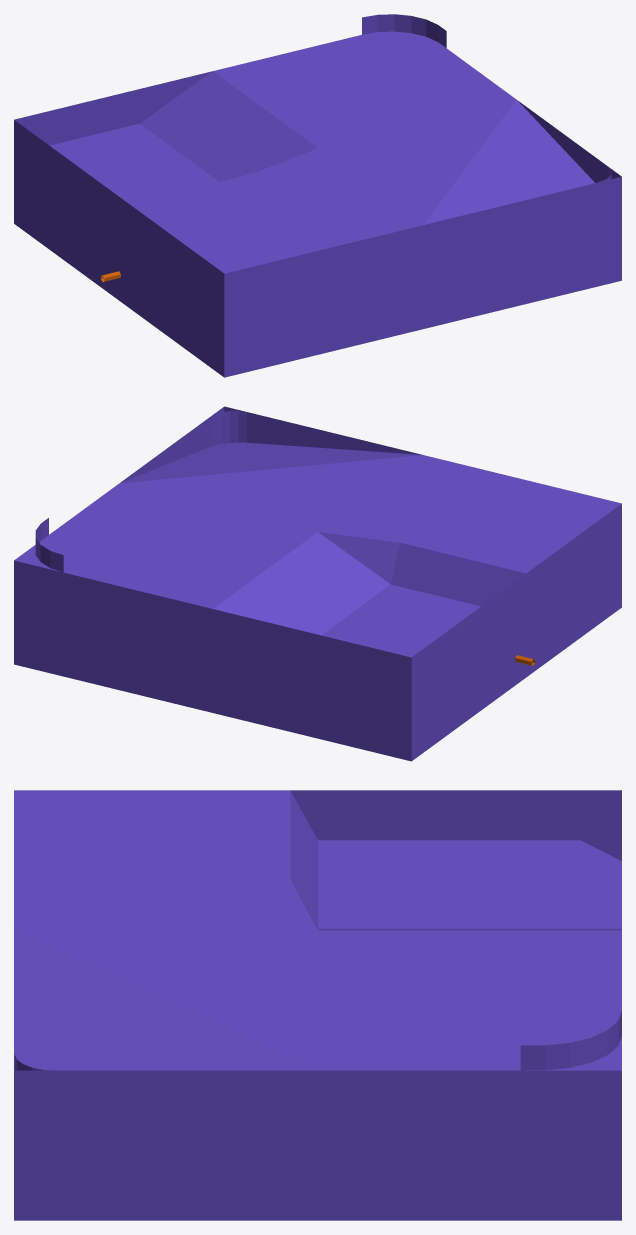
The model's file is room.obj.
The picture shows the model from 3 angles, top to bottom: view 1: azimuth 30°, elevation 25°; view 2: azimuth 150°, elevation 25°; view 3: azimuth 270°, elevation 25°; orthographic projection. The views are drawn at different scales.
Parts seen in each view (by area): view 1: Cube, Cylinder.004_Cylinder.002; view 2: Cube, Cylinder.005_Cylinder.003, Cylinder.004_Cylinder.002; view 3: Cube, Cylinder.004_Cylinder.002.
Part boxes in pixels (<box>): Cube: <box>14,31,621,377</box>; Cylinder.004_Cylinder.002: <box>362,14,446,47</box>; Cube: <box>14,406,621,761</box>; Cylinder.005_Cylinder.003: <box>210,411,254,446</box>; Cylinder.004_Cylinder.002: <box>35,518,63,572</box>; Cube: <box>14,790,621,1220</box>; Cylinder.004_Cylinder.002: <box>520,1011,621,1070</box>.
Bounding box in the file's own units: 12.5 × 4.5 × 11.
